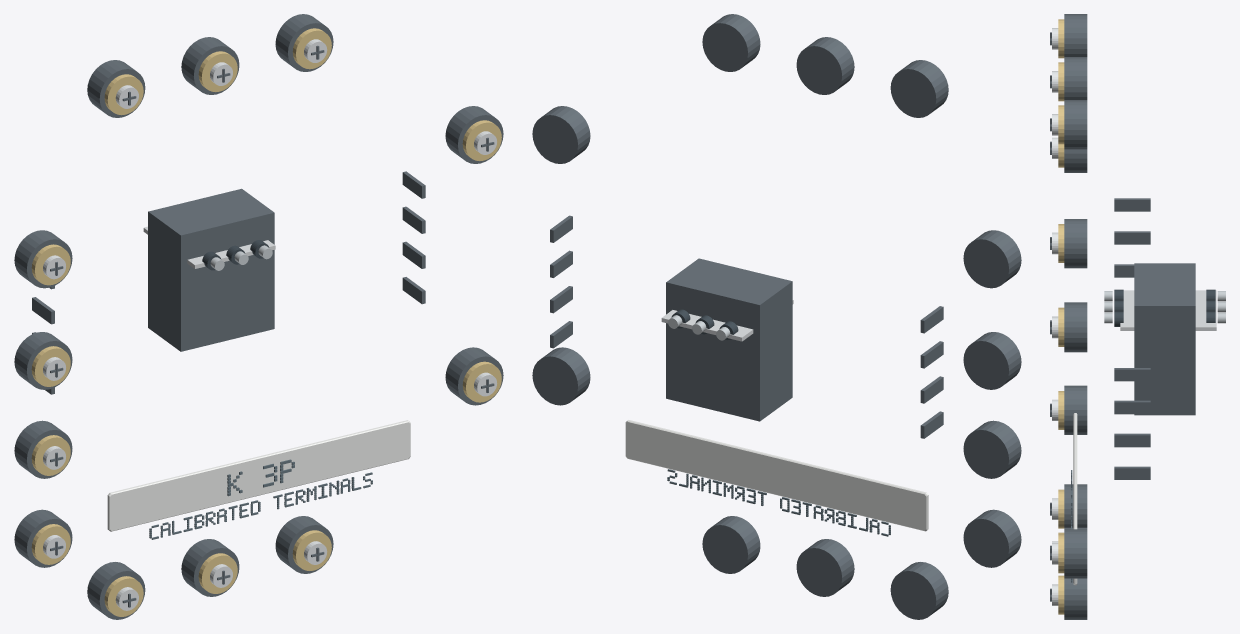
The model's file is contactor.glb.
3 renders of one model, left to right at view 1: azimuth 30°, elevation 25°; view 2: azimuth 150°, elevation 25°; view 3: azimuth 270°, elevation 25°, orthographic. The views are drawn at different scales.
Parts seen in each view (by area): view 1: contactor-detailed; view 2: contactor-detailed; view 3: contactor-detailed.
Part boxes in pixels (x1,y1,x2,y2): contactor-detailed: [14, 14, 503, 619]; contactor-detailed: [532, 14, 1021, 619]; contactor-detailed: [1050, 14, 1225, 619].
Bounding box in the file's own units: 3.27 × 3.61 × 1.11.
